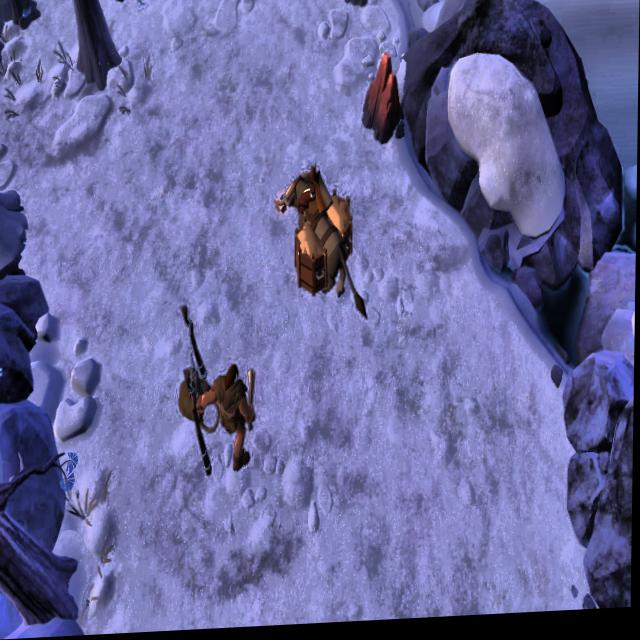enemy_factionKeeper: (200, 362, 260, 476)
rock_t5: (358, 55, 405, 148), (340, 0, 379, 15)
